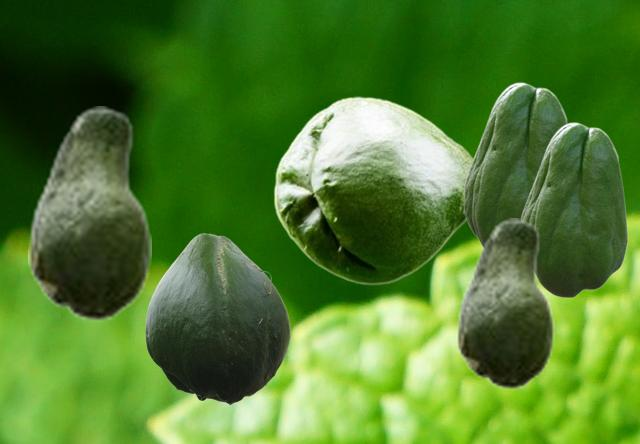sayote: (273, 96, 473, 284), (28, 106, 150, 321), (145, 233, 289, 404), (520, 122, 627, 297), (463, 82, 567, 245), (456, 218, 553, 389)
